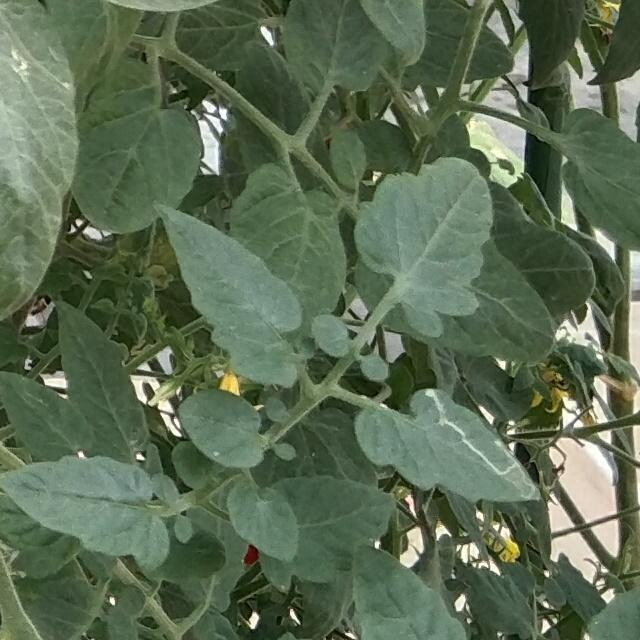Healthy: (147, 196, 307, 390), (353, 154, 497, 342), (71, 53, 203, 237), (0, 451, 172, 571), (176, 386, 267, 472), (224, 478, 299, 566)
Leaf_Miner: (346, 381, 556, 508)
